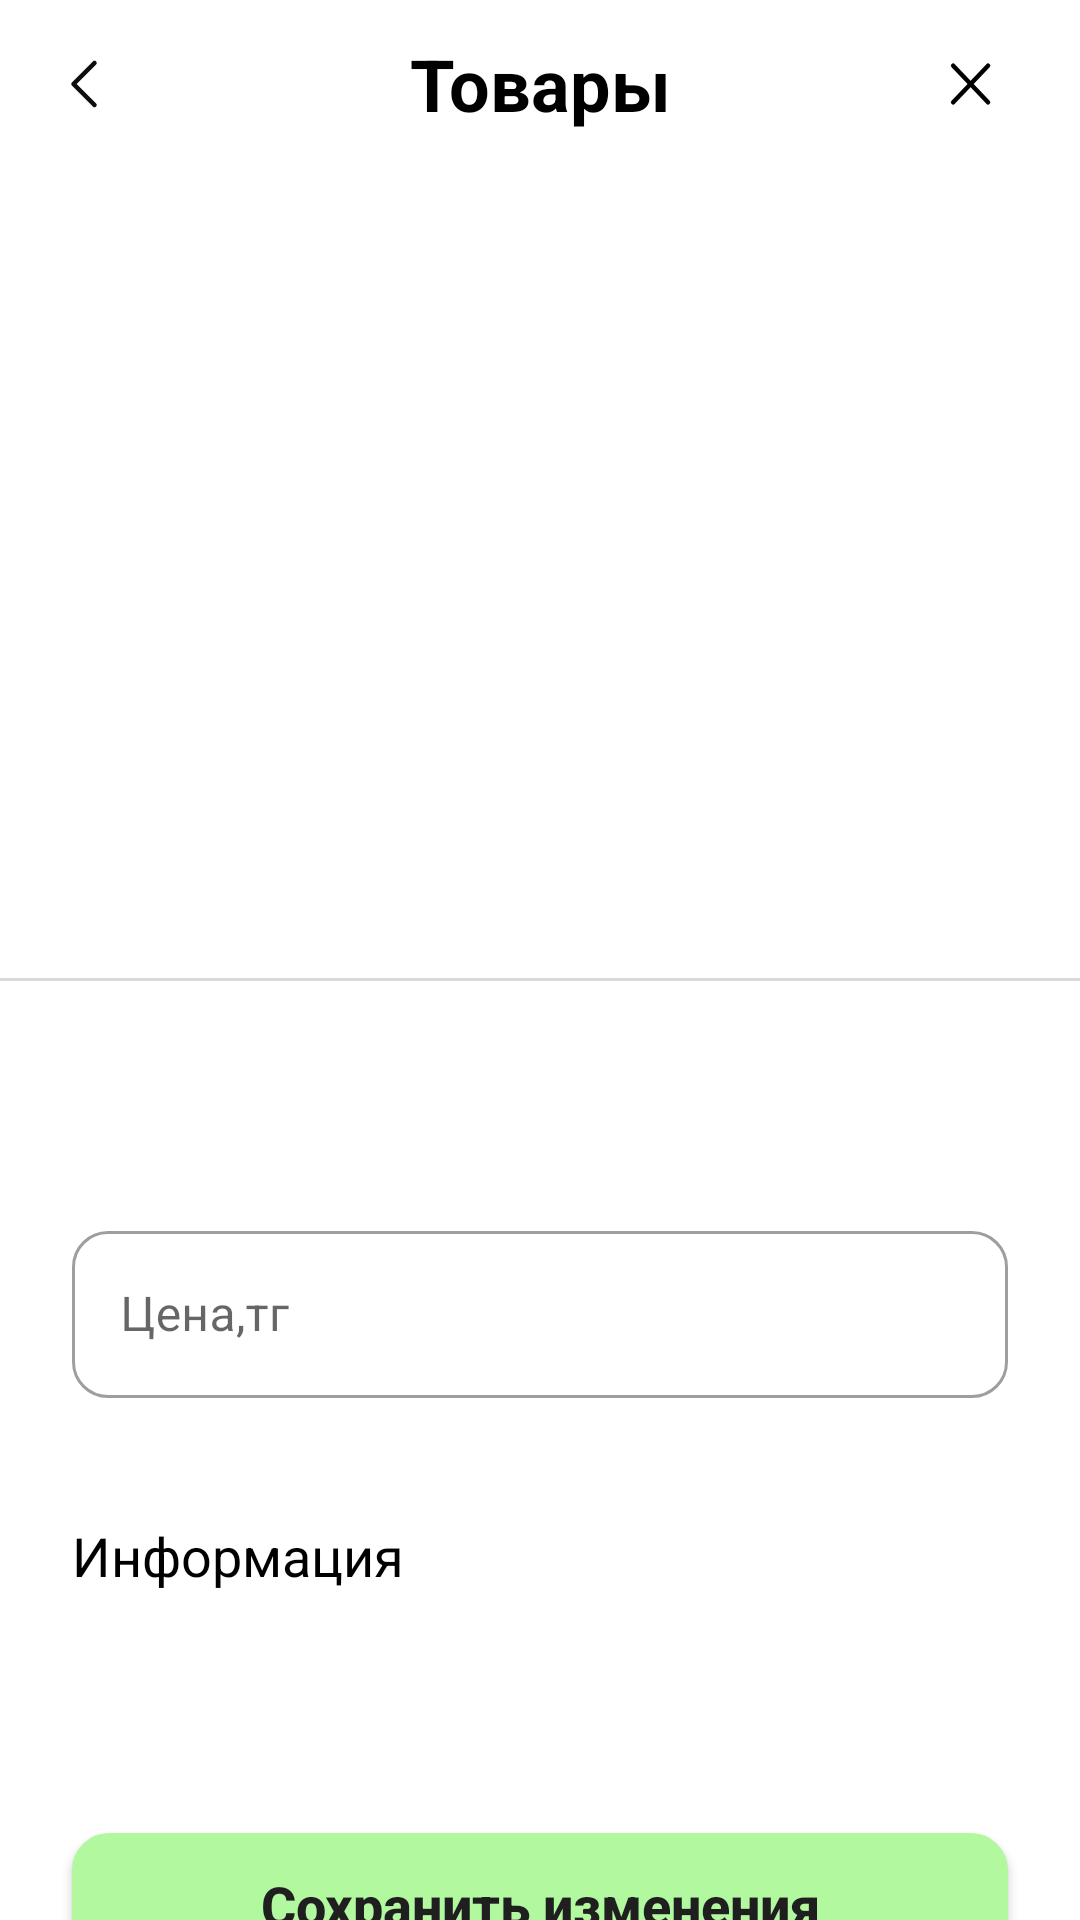

Point at icon controls on the screen. Image size 1080w x 1920h, points as (x=x, y=y).
close: (x=971, y=84)
